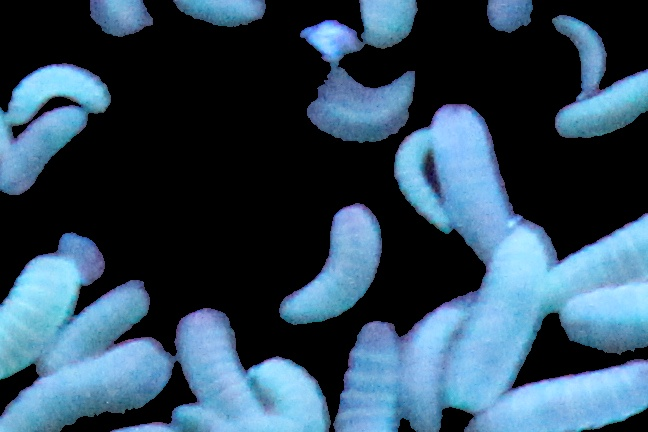larvae: (448, 222, 552, 410), (1, 336, 172, 432), (280, 205, 385, 324), (463, 365, 648, 432), (167, 307, 265, 432), (440, 110, 518, 264), (36, 280, 149, 377), (545, 210, 648, 311), (1, 254, 79, 382), (401, 300, 471, 432), (1, 104, 89, 196), (333, 322, 404, 432), (553, 73, 648, 141), (560, 281, 648, 352), (250, 357, 333, 432), (393, 128, 451, 231), (306, 92, 413, 144), (4, 65, 111, 113), (554, 18, 612, 100), (170, 400, 239, 432)
